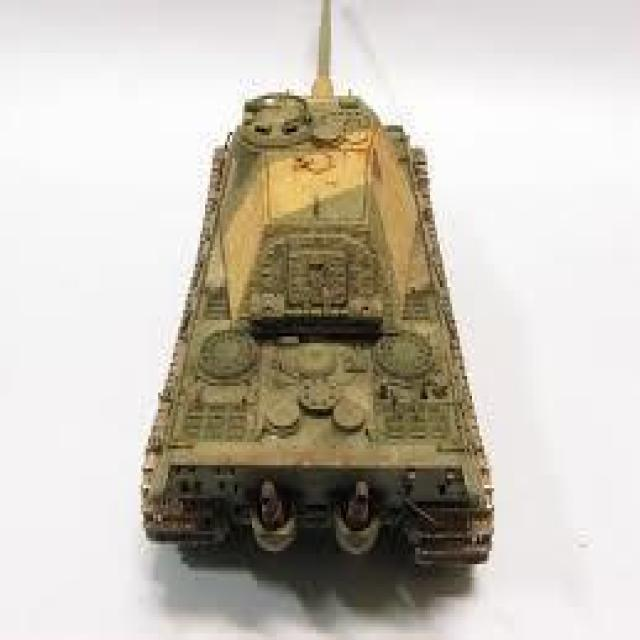MIL_MBT: (146, 82, 502, 571)
